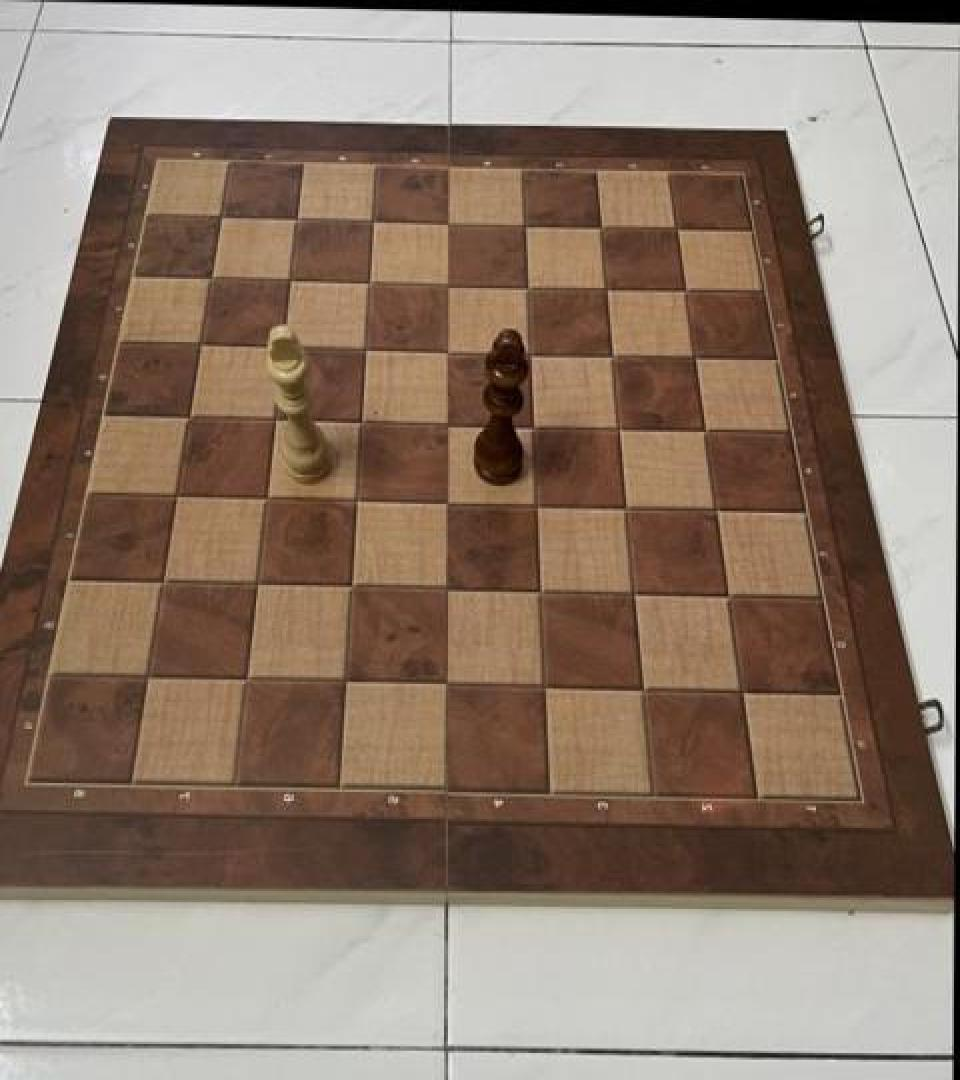xcorner: (358, 201, 392, 240), (670, 272, 704, 311), (147, 562, 181, 601), (206, 197, 240, 235), (282, 199, 316, 237), (434, 204, 468, 242), (510, 206, 544, 244), (586, 208, 620, 246), (662, 210, 696, 248), (196, 259, 230, 297), (275, 261, 309, 299), (354, 264, 388, 302), (433, 266, 467, 304), (512, 268, 546, 306), (591, 270, 625, 308), (185, 325, 219, 363), (268, 328, 302, 366), (350, 330, 384, 368), (433, 332, 467, 370), (515, 334, 549, 372), (597, 336, 631, 374), (680, 339, 714, 377), (174, 397, 208, 435), (260, 400, 294, 438), (346, 402, 380, 440), (432, 404, 466, 442), (518, 408, 552, 446), (604, 410, 638, 448), (690, 412, 724, 450), (161, 476, 195, 514), (251, 478, 285, 516), (341, 480, 375, 518), (431, 484, 465, 522), (521, 486, 555, 524), (611, 488, 645, 526), (701, 490, 735, 528), (242, 565, 276, 603), (336, 567, 370, 605), (430, 570, 464, 608), (524, 573, 558, 611), (619, 575, 653, 613), (713, 578, 747, 616), (132, 657, 166, 695), (231, 660, 265, 698), (330, 663, 364, 701), (429, 666, 463, 704), (528, 668, 562, 706), (627, 670, 661, 708), (726, 674, 760, 712)
